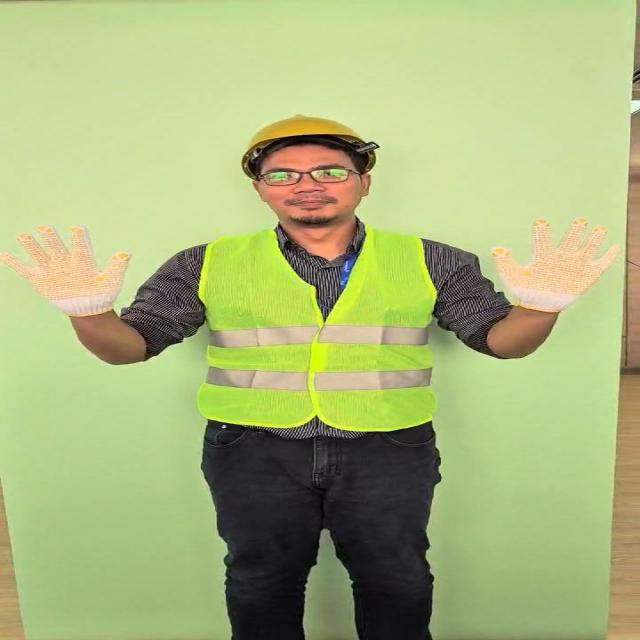gloves: (487, 215, 625, 314), (1, 226, 132, 318)
goggles: (255, 168, 364, 185)
safety_vest: (198, 230, 440, 432)
